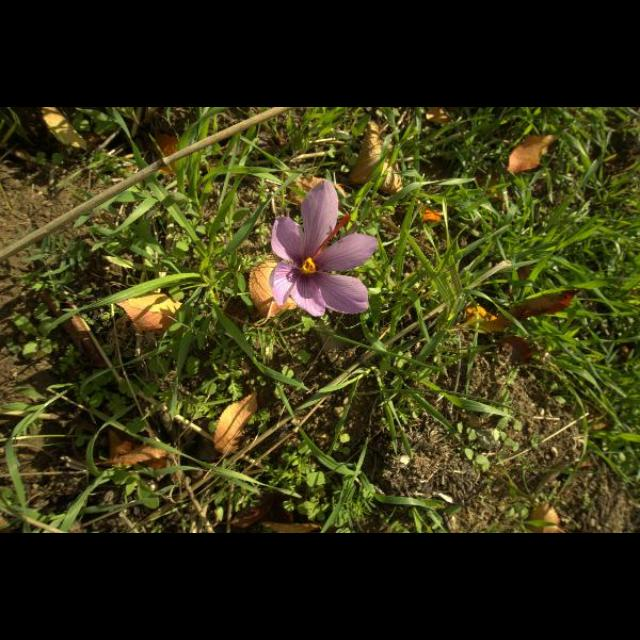flower: (268, 180, 380, 316)
